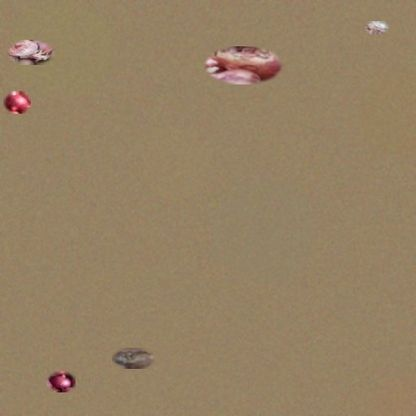healthy: (3, 91, 31, 114), (46, 371, 76, 392)
rotten: (203, 46, 284, 85), (112, 348, 154, 369), (365, 21, 388, 34)
sprouted: (7, 40, 55, 65)
